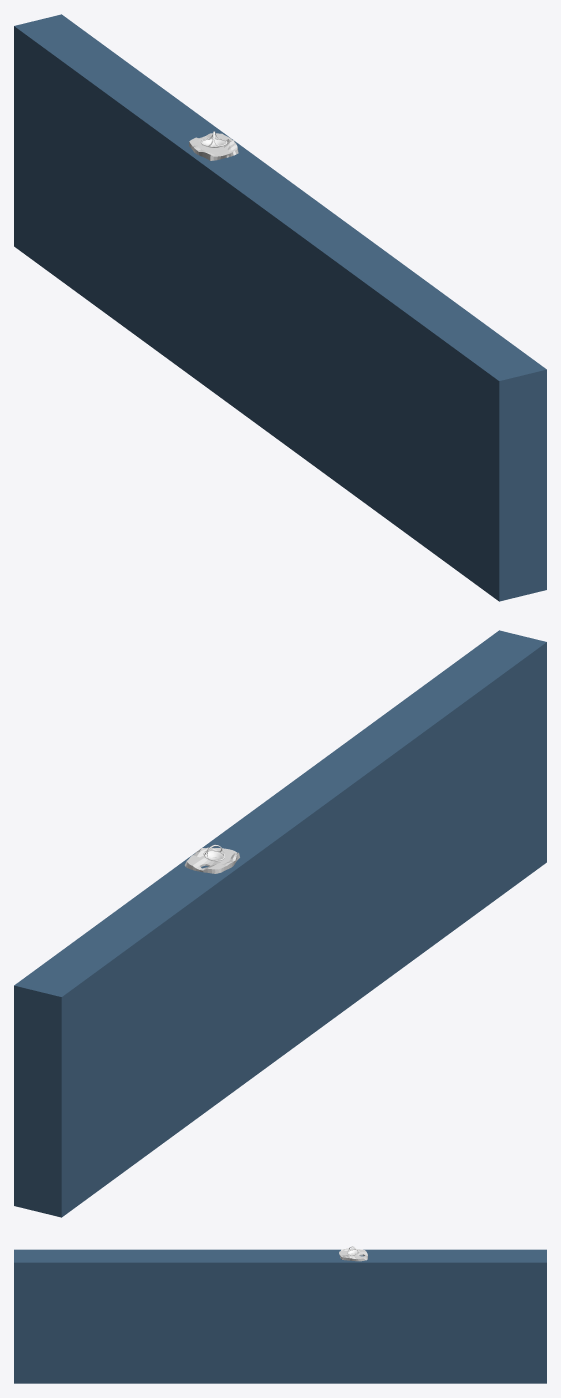
Rendered from FishingScene.glb.
The picture shows the model from 3 angles, top to bottom: view 1: azimuth 30°, elevation 25°; view 2: azimuth 150°, elevation 25°; view 3: azimuth 270°, elevation 25°; orthographic projection. The views are drawn at different scales.
Visible parts, largest first — view 1: Cube, Plane.002; view 2: Cube, Plane.002; view 3: Cube, Plane.002.
Part boxes in pixels (x1,y1,x2,y2): Cube: [14, 14, 546, 601]; Plane.002: [189, 133, 238, 160]; Cube: [14, 630, 546, 1217]; Plane.002: [184, 847, 239, 873]; Cube: [14, 1249, 546, 1383]; Plane.002: [339, 1248, 367, 1261].
Bounding box in the file's own units: 3.3 × 15.71 × 58.16.
